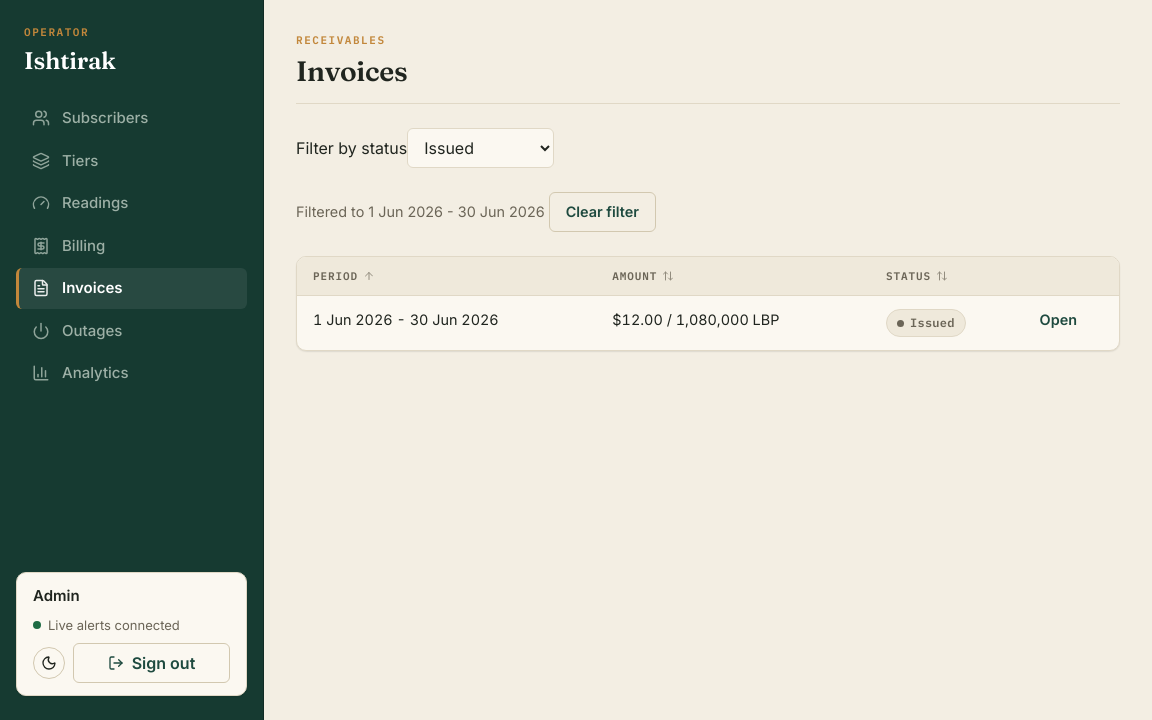
operator pages › shows and clears a period filter passed via the URL
The width and height of the screenshot is (1152, 720).
Expected: the text "Receivables" is shown, [296,33,386,47]
Expected: the text "Filtered to 1 Jun 2026 - 30 Jun 2026 Clear filter" is shown, [296,192,656,232]
Click the button "Clear filter": (602, 212) [549,192,656,232]
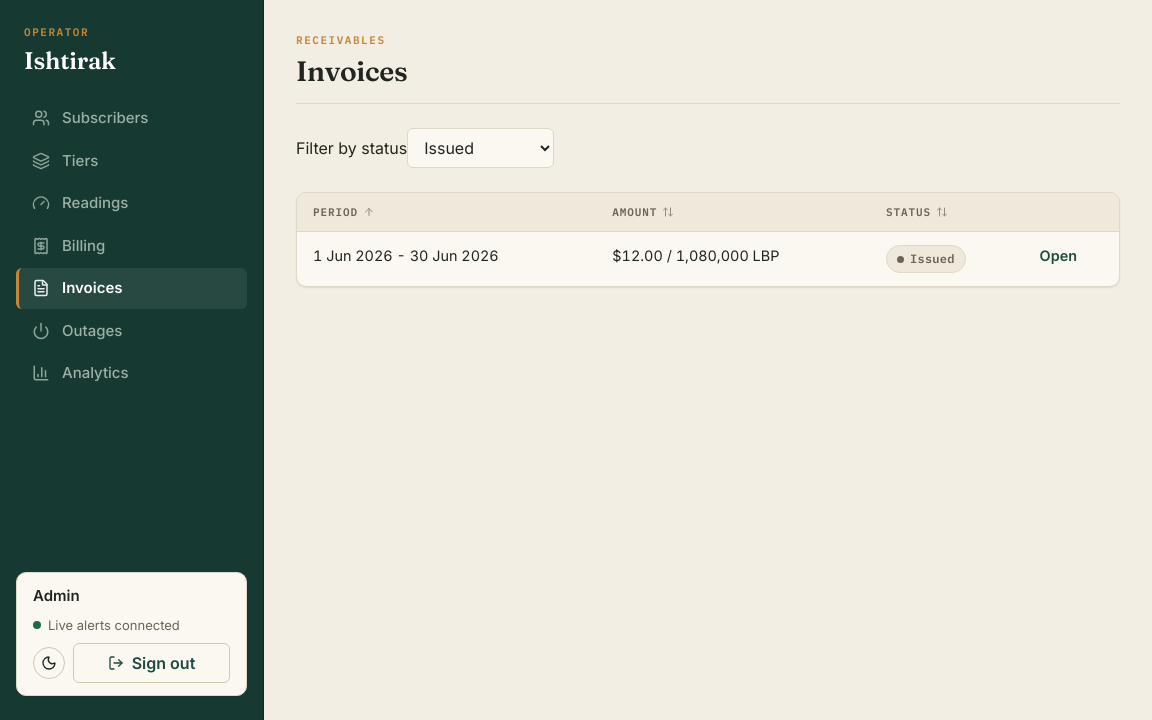
Expected: the text "Filtered to" is gone
